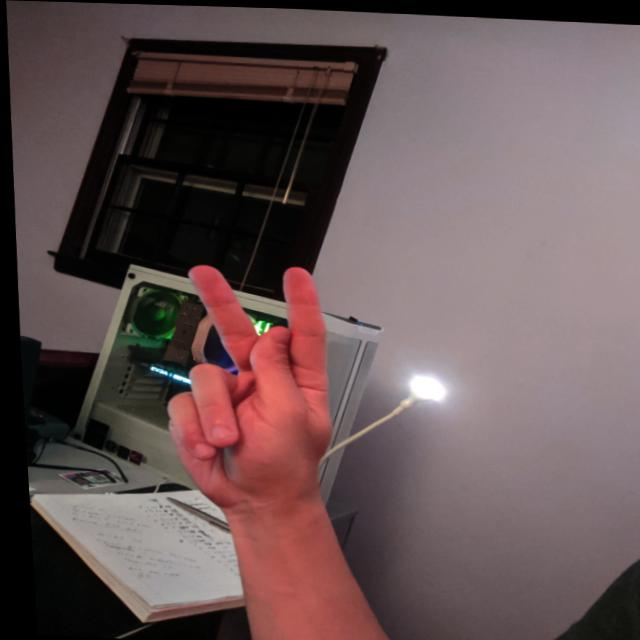K: (141, 253, 348, 524)
